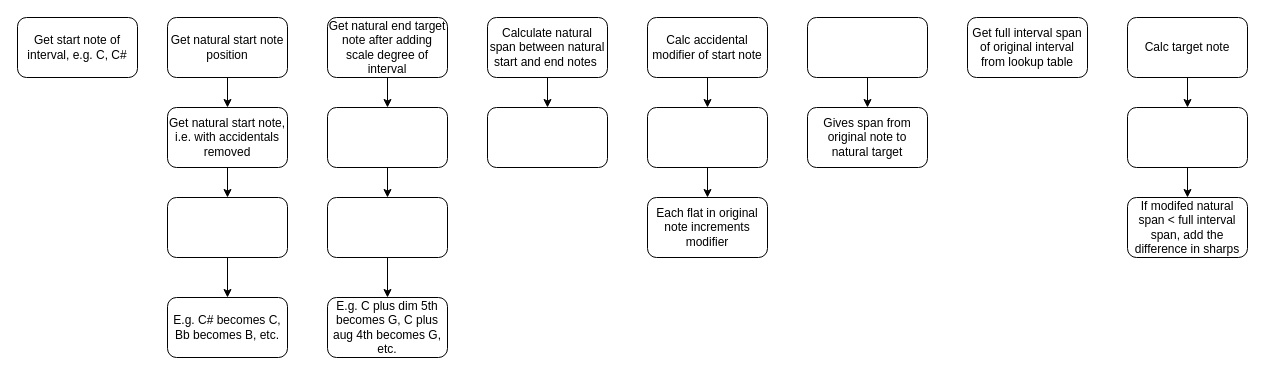
The diagram is 1265 pixels wide and 375 high, and some of its shapes have lost their labels. The shapes that lost their labels are listed below. From the top down, each one's centre as x and y in pixels, then its label:
(x=867, y=47): Subtract modifier from natural span
(x=387, y=137): Remove modifiers from scale degree e.g. m, M
(x=547, y=137): Use hash table with distances to calculate difference
(x=707, y=137): Each sharp in original note decrements modifier
(x=1187, y=137): If modifed natural span > full interval span, add the difference in flats
(x=227, y=227): get alphabet position of natural start note
(x=387, y=227): Add natural scale degree to natural start note
